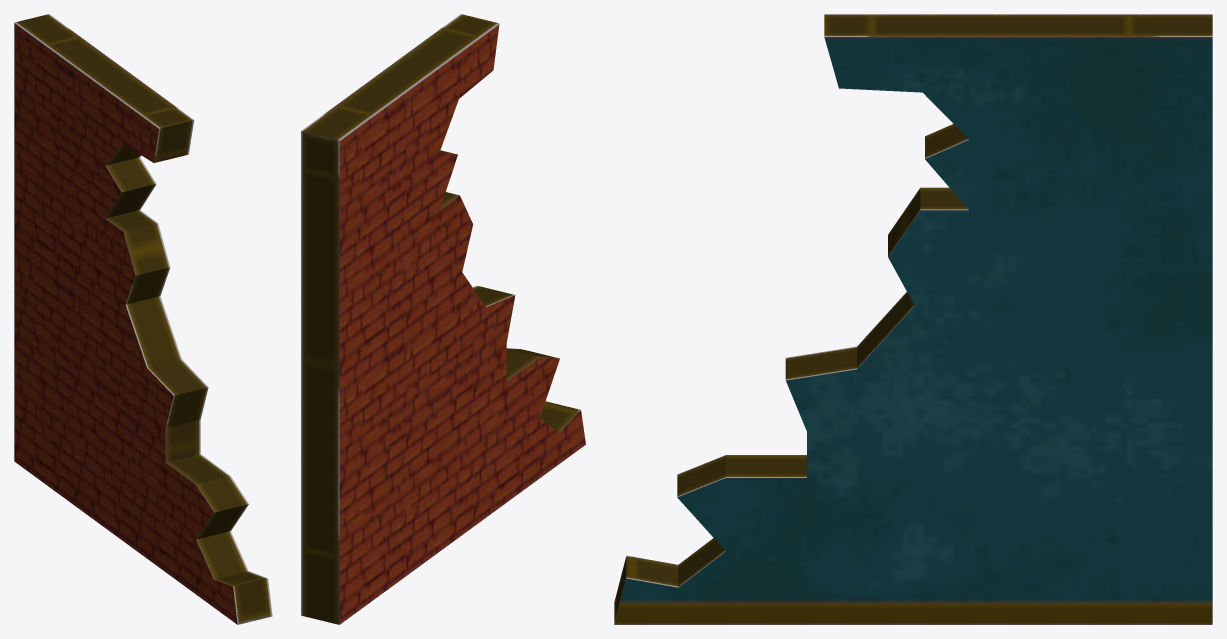
Rendered from Wall_Broken_L_01.fbx.
3 renders of one model, left to right at view 1: azimuth 30°, elevation 25°; view 2: azimuth 150°, elevation 25°; view 3: azimuth 270°, elevation 25°, orthographic. The views are drawn at different scales.
Visible parts, largest first — view 1: Wall_Broken_L_01; view 2: Wall_Broken_L_01; view 3: Wall_Broken_L_01.
Part boxes in pixels (x1=…): Wall_Broken_L_01: x1=14, y1=14, x2=272, y2=624; Wall_Broken_L_01: x1=301, y1=14, x2=585, y2=624; Wall_Broken_L_01: x1=614, y1=14, x2=1212, y2=624.
Bounding box in the file's own units: 50 × 600 × 553.
